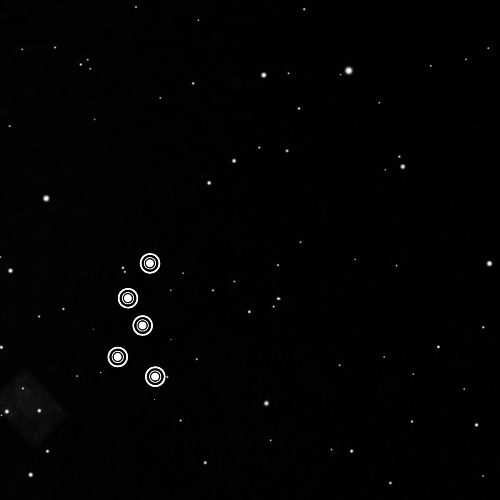cassiopeia: (103, 246, 168, 396)
